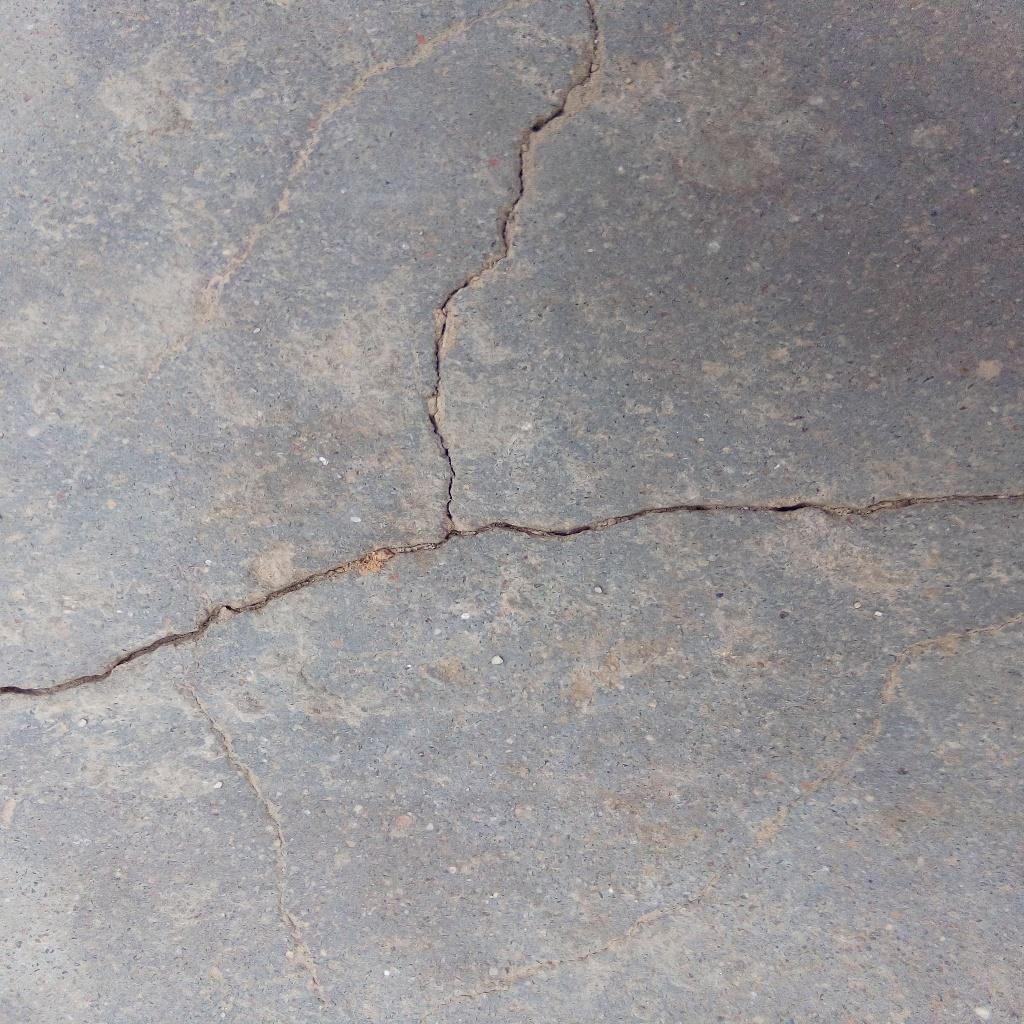Crack: (424, 1, 600, 534), (1, 533, 452, 696), (453, 494, 1024, 534)
